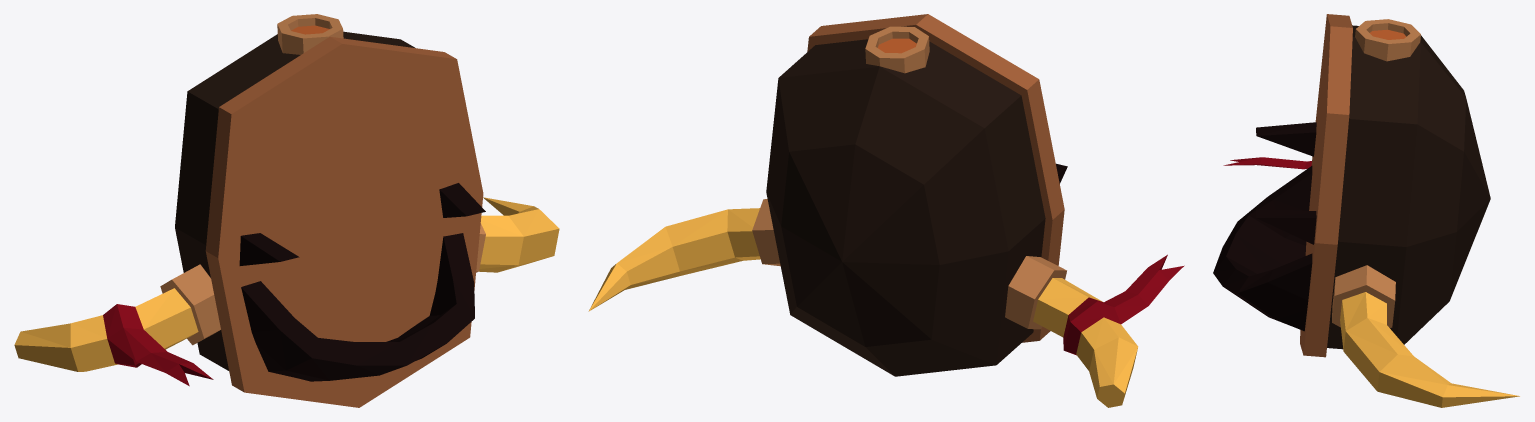
Rendered from Helmet 01.FBX.
3 renders of one model, left to right at view 1: azimuth 30°, elevation 25°; view 2: azimuth 150°, elevation 25°; view 3: azimuth 270°, elevation 25°, orthographic. The views are drawn at different scales.
Parts seen in each view (by area): view 1: Helmet 01, Hair Headgear; view 2: Helmet 01; view 3: Helmet 01, Hair Headgear.
Part boxes in pixels (bbox=[...]): Helmet 01: bbox=[14, 14, 559, 407]; Hair Headgear: bbox=[239, 183, 485, 381]; Helmet 01: bbox=[588, 14, 1184, 407]; Helmet 01: bbox=[1223, 14, 1519, 407]; Hair Headgear: bbox=[1213, 122, 1316, 331].
Bounding box in the file's own units: 62.43 × 39.71 × 34.77.
